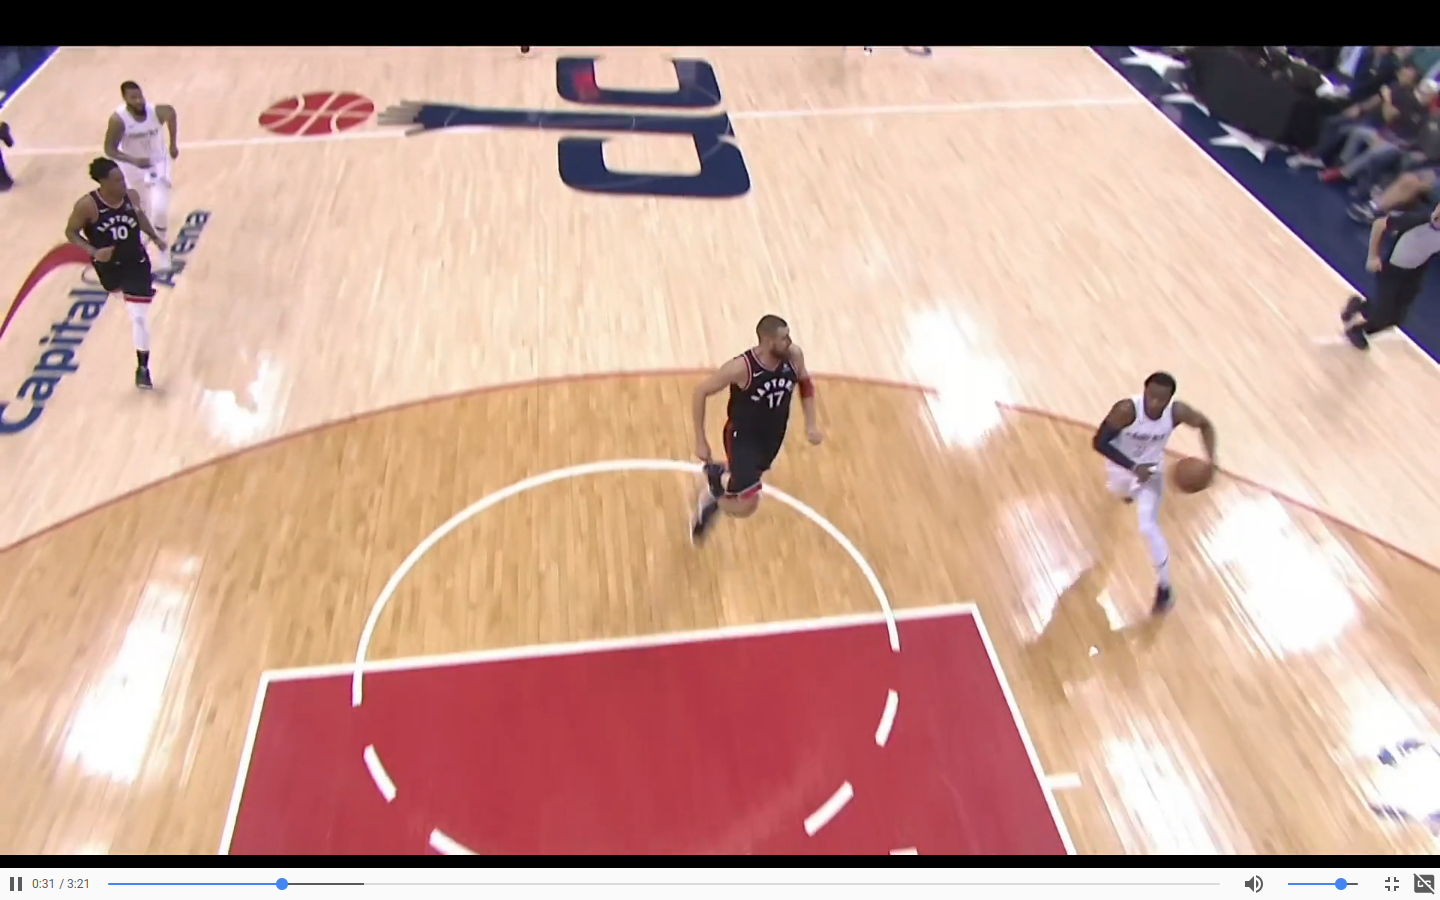basketball: (1172, 451, 1216, 499)
basketball player: (681, 302, 827, 569), (1101, 359, 1221, 625), (61, 152, 175, 391), (102, 72, 187, 229)
referee: (1336, 197, 1440, 356)
